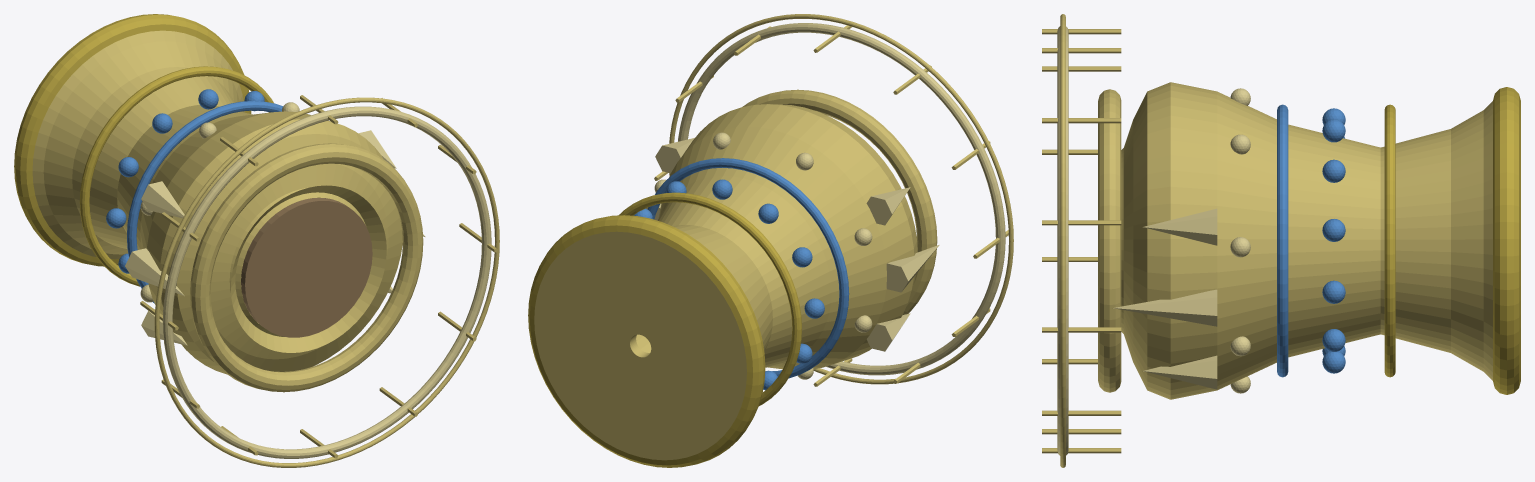
The model's file is pot_legendary_3.glb.
3 views of the same model, side by side, from view 1: azimuth 30°, elevation 25°; view 2: azimuth 150°, elevation 25°; view 3: azimuth 270°, elevation 25° (orthographic). The views are drawn at different scales.
Visible parts, largest first — view 1: world; view 2: world; view 3: world.
Part boxes in pixels (box(x1,y1,x2,y2)): world: box(14, 14, 499, 467); world: box(528, 14, 1013, 467); world: box(1042, 14, 1520, 467).
Size of the model in its own units: 9.72 by 9.72 by 10.25.
